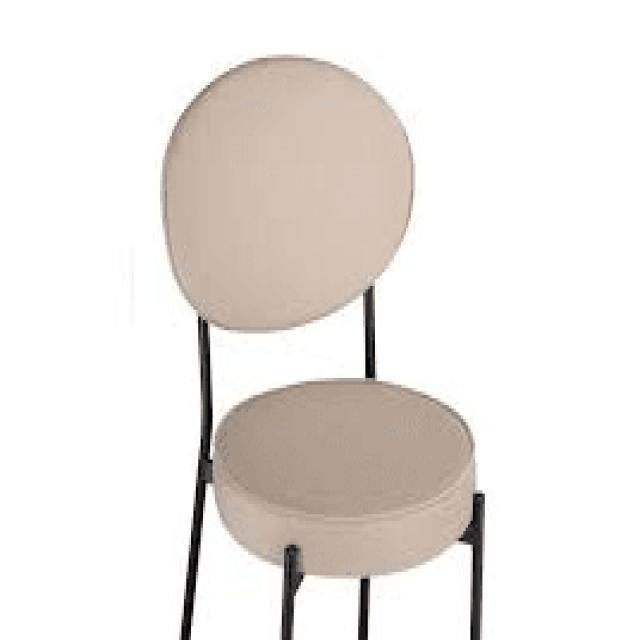chair: (156, 48, 486, 640), (156, 53, 475, 580)
